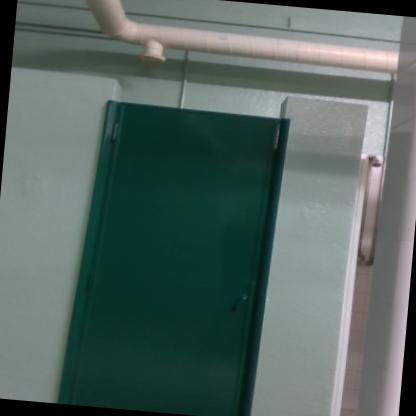closed: (51, 59, 310, 413)
